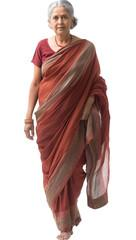Human: (16, 0, 117, 234)
